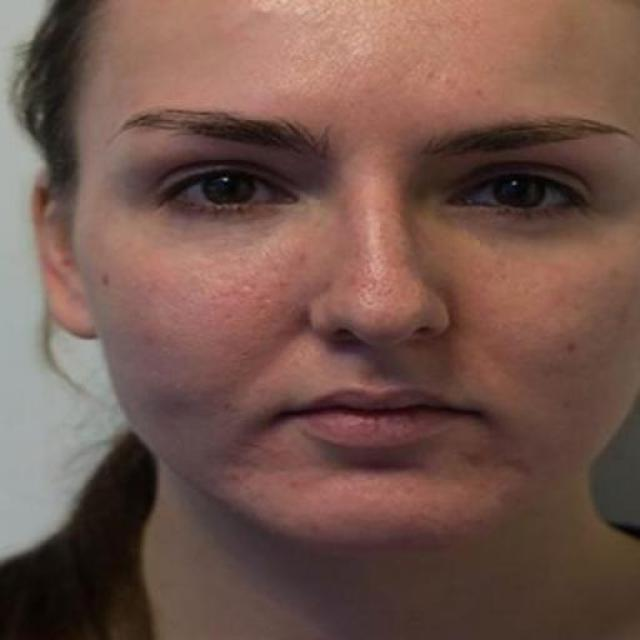Acne: (341, 237, 410, 315)
